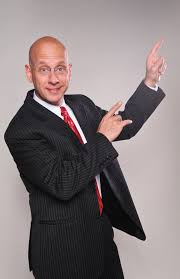hand: (86, 96, 135, 145), (143, 36, 176, 83)
